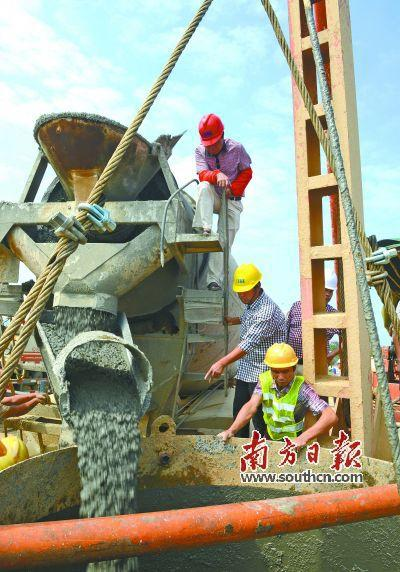helmet: (262, 338, 301, 386), (194, 109, 227, 158), (230, 259, 264, 305), (308, 264, 340, 308)
